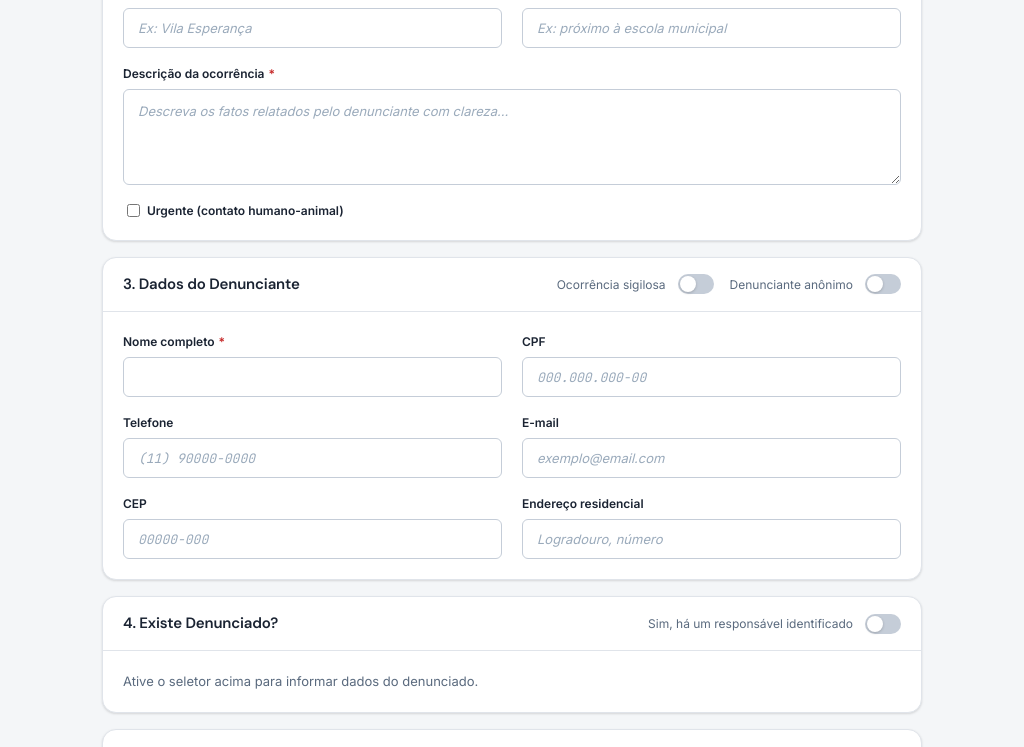
Test: OcorrenciaForm › anônima esconde o bloco do denunciante, limpa o que foi digitado e desabilita o sigilo (D32)
This screenshot has width=1024, height=747.
(page scrolled)
Type "Fulano de Tal" into the field labelled "Nome completo *" at {"x": 312, "y": 377}, box 123,357 -> 502,397
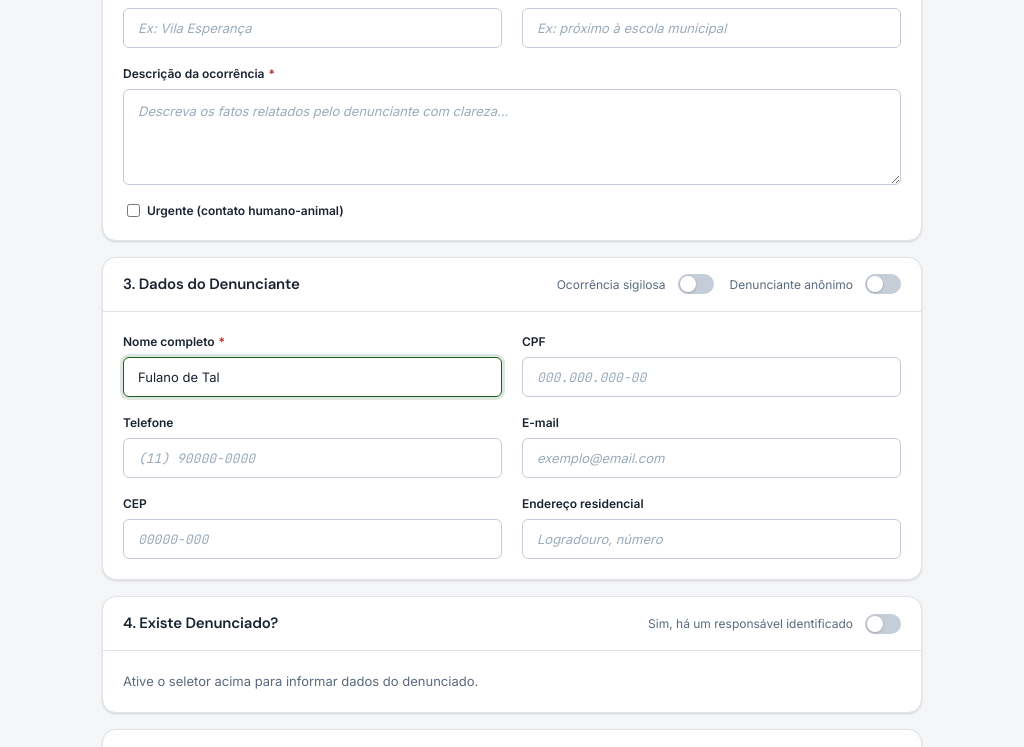
Click the checkbox named "Denunciante anônimo" at {"x": 883, "y": 284}, box 865,274 -> 901,294
(page scrolled)
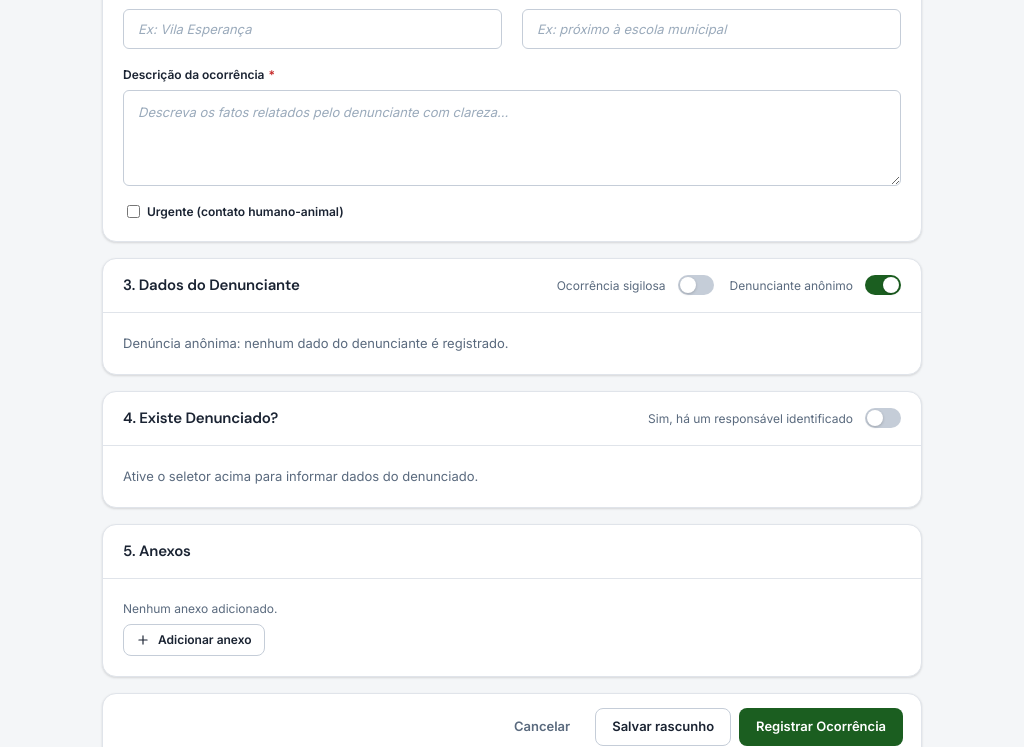
Expected: the label labelled "Nome completo" is gone
Expected: the text "Denúncia anônima: nenhum dado do denunciante é registrado." is shown, 123,335 -> 509,351
Expected: the checkbox named "Ocorrência sigilosa" is disabled, 678,275 -> 714,295
Click the checkbox named "Denunciante anônimo" at {"x": 883, "y": 285}, box 865,275 -> 901,295
(page scrolled)
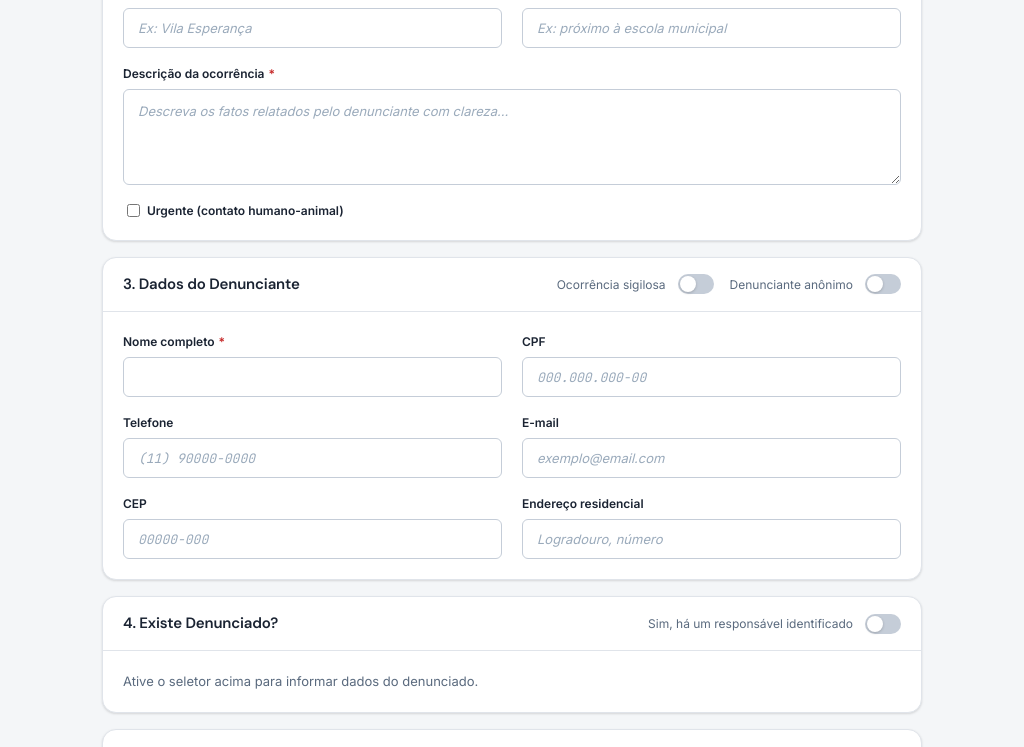
Expected: the field labelled "Nome completo *" is empty, 123,357 -> 502,397
Expected: the checkbox named "Ocorrência sigilosa" is enabled, 678,274 -> 714,294
